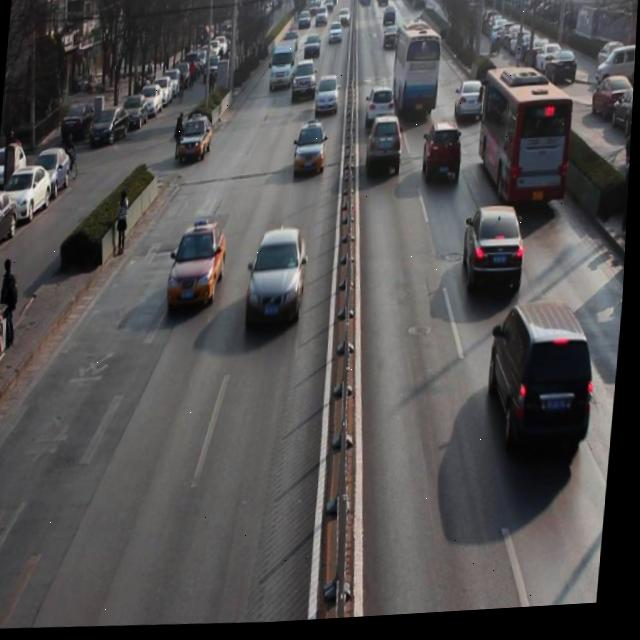car: (487, 304, 604, 470), (244, 231, 312, 341), (463, 207, 532, 308), (166, 223, 232, 324), (422, 124, 468, 190), (363, 120, 407, 186), (293, 120, 330, 183), (179, 114, 215, 168), (365, 89, 397, 138), (454, 83, 486, 129), (313, 77, 343, 123), (291, 64, 318, 109), (303, 37, 323, 64)
truck: (267, 45, 298, 95)
van: (475, 70, 576, 220), (389, 26, 443, 128)
